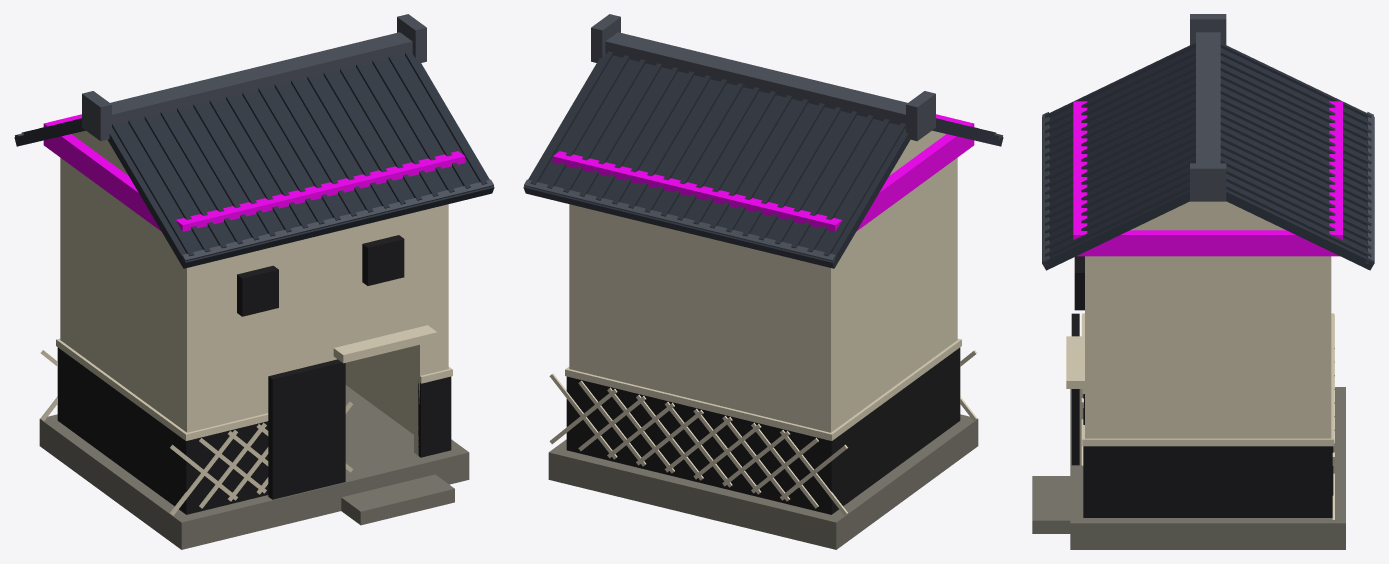
Rendered from Kura.fbx.
The picture shows the model from 3 angles, left to right: view 1: azimuth 30°, elevation 25°; view 2: azimuth 150°, elevation 25°; view 3: azimuth 270°, elevation 25°; orthographic projection. The views are drawn at different scales.
Visible parts, largest first — view 1: Kura, COL_Kura_8; view 2: Kura, COL_Kura_8; view 3: Kura, COL_Kura_8.
Boxes of the visible parts, box(x1,y1,x2,y2) form: Kura: box(14, 14, 494, 549); COL_Kura_8: box(43, 114, 465, 231); Kura: box(523, 14, 1003, 549); COL_Kura_8: box(552, 114, 974, 231); Kura: box(1032, 14, 1374, 549); COL_Kura_8: box(1073, 101, 1342, 256).
Size of the model in its own units: 6.24 by 7.35 by 5.84.
